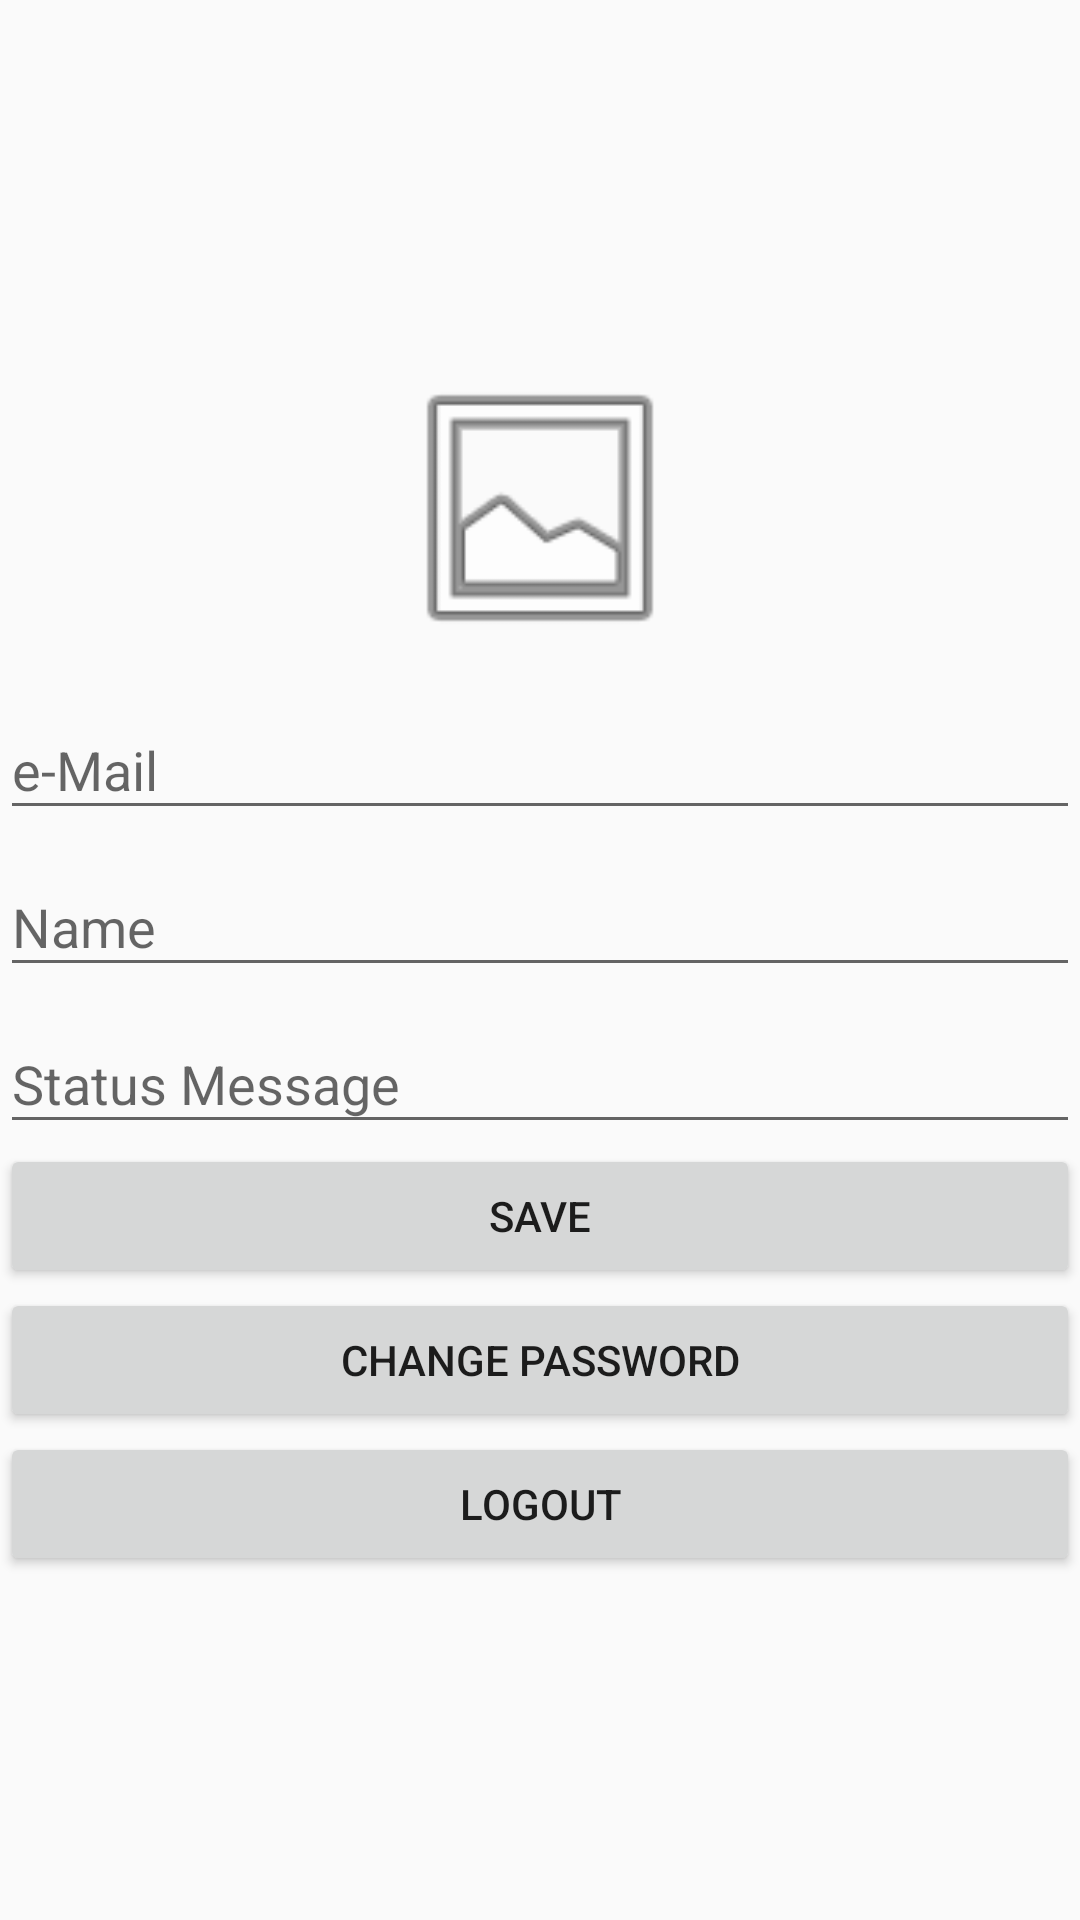

Icons on this 1080px x 1920px Android screen, each with its box as (x1, y1, x2, y2):
gallery: (427, 395, 653, 621)
